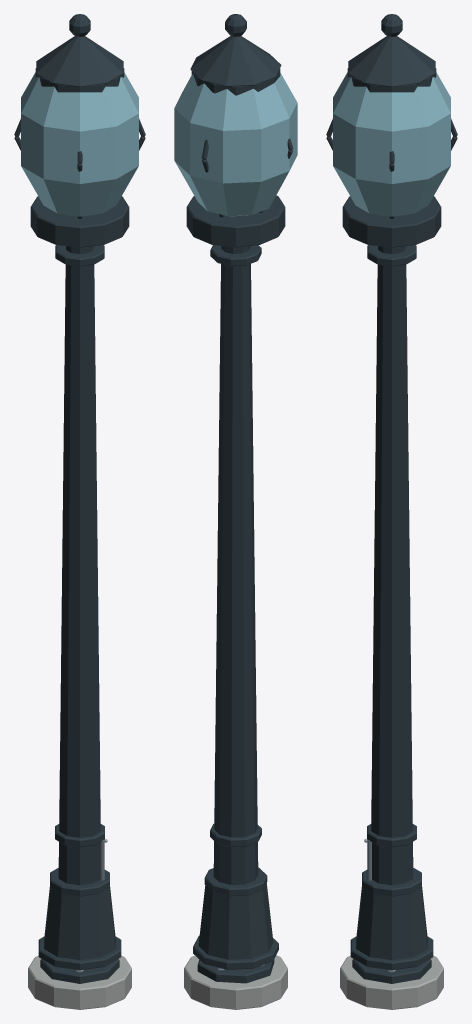
Rendered from b18_acorn_globe_park_lamp.glb.
3 renders of one model, left to right at view 1: azimuth 90°, elevation 25°; view 2: azimuth 150°, elevation 25°; view 3: azimuth 270°, elevation 25°, orthographic.
Parts seen in each view (by area): view 1: b18_acorn_globe_park_lamp; view 2: b18_acorn_globe_park_lamp; view 3: b18_acorn_globe_park_lamp.
Boxes of the visible parts, box(x1,y1,x2,y2) form: b18_acorn_globe_park_lamp: box(14, 14, 145, 1009); b18_acorn_globe_park_lamp: box(174, 14, 297, 1009); b18_acorn_globe_park_lamp: box(326, 14, 457, 1009).
Size of the model in its own units: 0.505 by 4.12 by 0.505.
